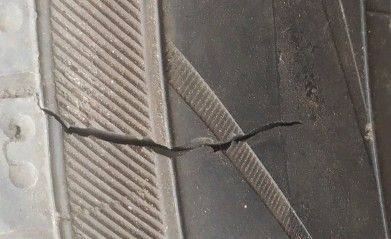cut: (30, 88, 306, 161)
